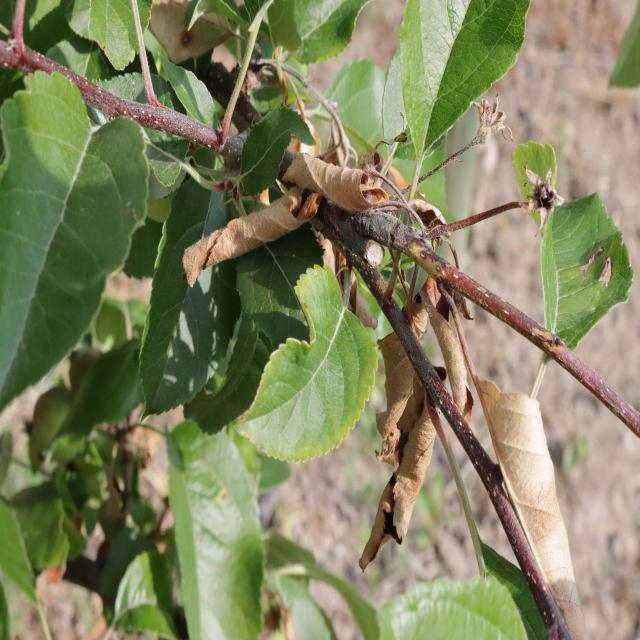-FireBlight-: (290, 136, 467, 553), (476, 379, 602, 627)
